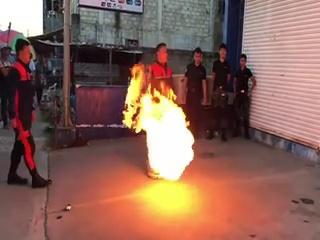Fire: (123, 66, 196, 186)
